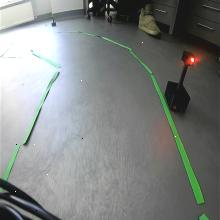red: (180, 50, 196, 68)
